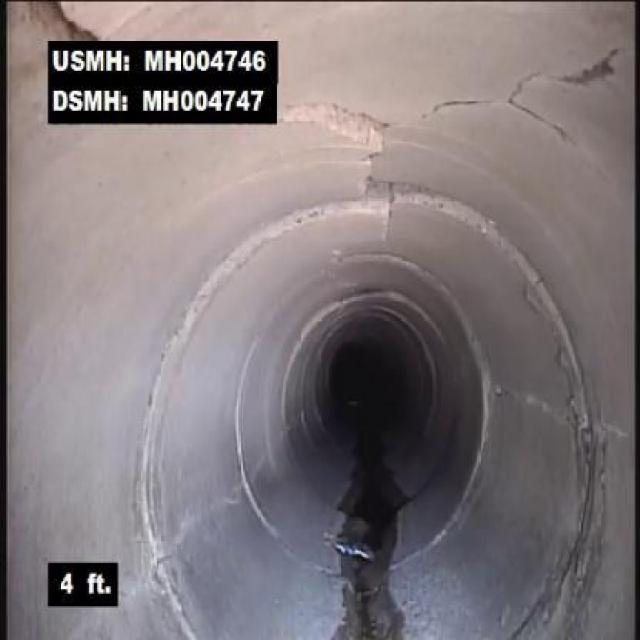Buckling: (288, 92, 392, 205)
Crack: (434, 54, 615, 138), (504, 383, 574, 437)
Hole: (8, 1, 102, 38)
Joint offset: (398, 186, 530, 249)
